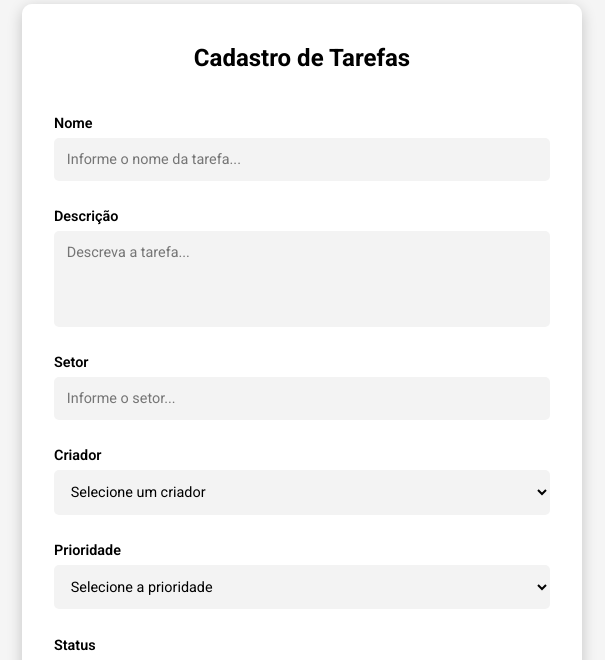
Test case: Validações no formulário de cadastro de tarefa › Deve mostrar erro quando nome está vazio
This screenshot has width=605, height=660.
Clear the field labelled "Nome" at (302,160), box [54,138,550,181]
(page scrolled)
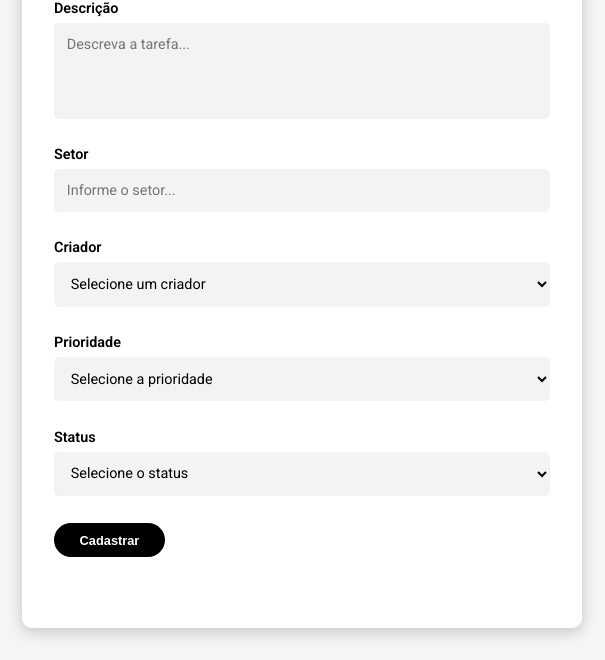
Click the button "Cadastrar" at (109,540), box [54,523,165,558]
(page scrolled)
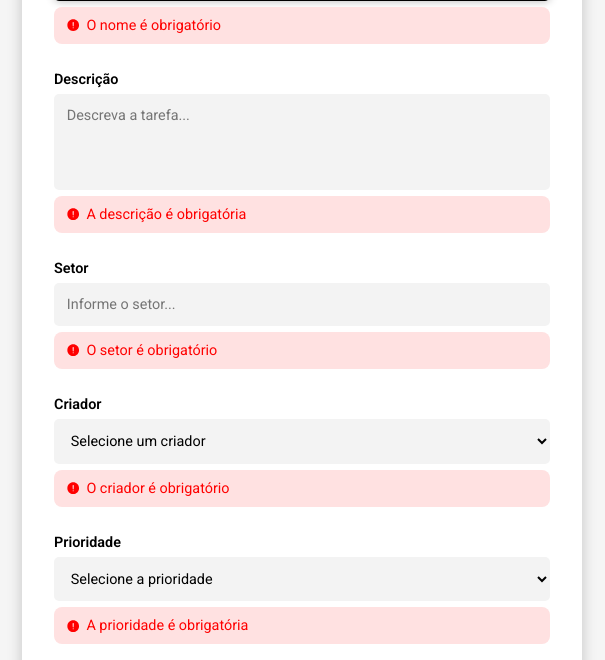
Check: the text "O nome é obrigatório" is shown, box [54,7,550,44]
